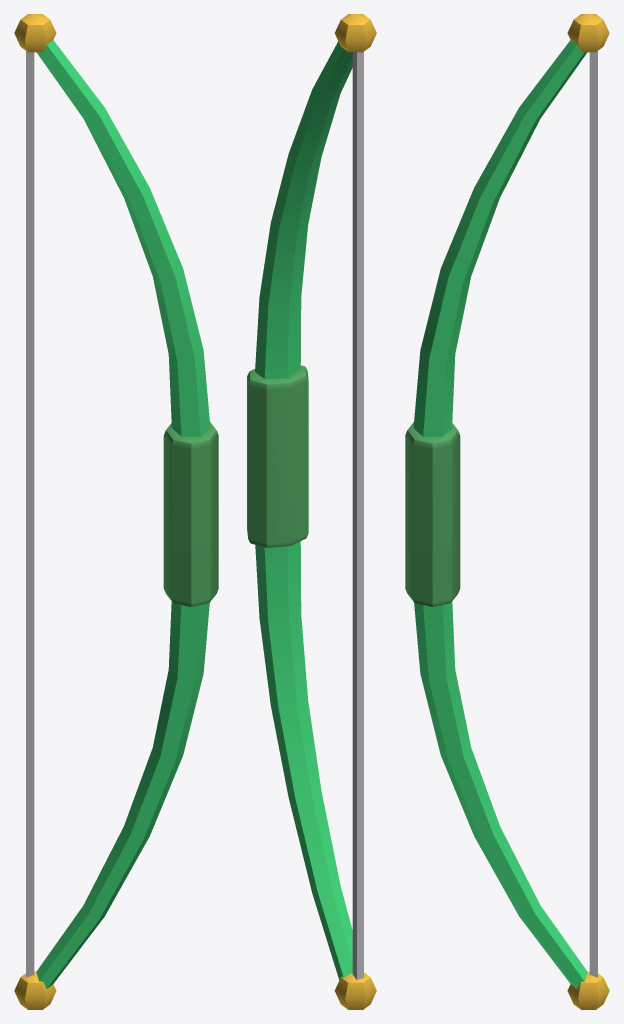
File: EmeraldBow.fbx
The picture shows the model from 3 angles, left to right: view 1: azimuth 90°, elevation 25°; view 2: azimuth 210°, elevation 25°; view 3: azimuth 270°, elevation 25°; orthographic projection.
Parts seen in each view (by area): view 1: EmeraldBow; view 2: EmeraldBow; view 3: EmeraldBow.
Part boxes in pixels (left/top/right/bottom): EmeraldBow: left=14, top=14, right=218, bottom=1009; EmeraldBow: left=247, top=14, right=376, bottom=1009; EmeraldBow: left=405, top=14, right=609, bottom=1009.
Bounding box in the file's own units: 0.26 × 4.16 × 0.774.
1 material, 1 textured.
